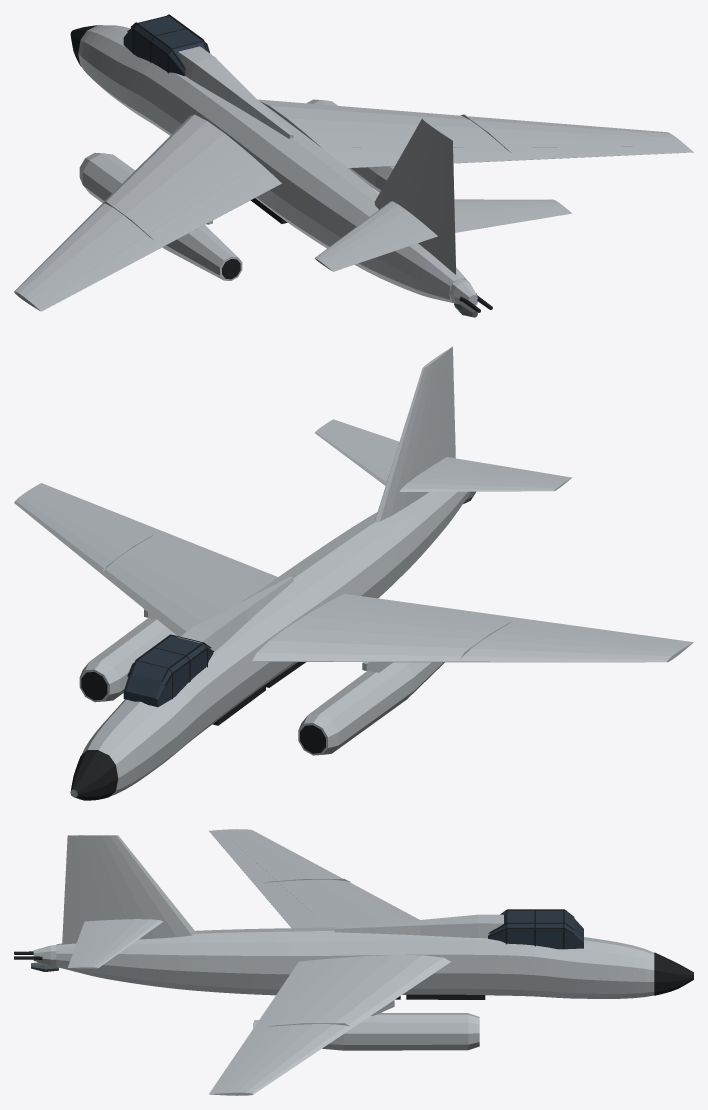
3 views of the same model, one above another, from view 1: azimuth 30°, elevation 25°; view 2: azimuth 150°, elevation 25°; view 3: azimuth 270°, elevation 25° (orthographic). The views are drawn at different scales.
Parts seen in each view (by area): view 1: Fuselage, Wing L, Wing R, Nacelles, Vertical Fin, Flap L, Rudder, Dorsal Fairing, Cockpit Glass, Stabilizer L, Flap R, Stabilizer R (+6 smaller); view 2: Fuselage, Wing L, Wing R, Nacelles, Vertical Fin, Cockpit Glass, Stabilizer L, Dorsal Fairing, Flap L, Stabilizer R, Flap R, Rudder (+6 smaller); view 3: Fuselage, Wing R, Wing L, Vertical Fin, Nacelles, Rudder, Cockpit Glass, Dorsal Fairing, Stabilizer R, Flap R, Flap L, Radome (+5 smaller).
Boxes of the visible parts, bbox=[...] form: Fuselage: bbox=[78, 25, 466, 303]; Wing L: bbox=[14, 114, 281, 311]; Wing R: bbox=[258, 99, 693, 168]; Nacelles: bbox=[79, 99, 394, 280]; Vertical Fin: bbox=[374, 118, 442, 246]; Flap L: bbox=[136, 172, 267, 253]; Rudder: bbox=[422, 132, 456, 274]; Dorsal Fairing: bbox=[178, 46, 293, 138]; Cockpit Glass: bbox=[123, 16, 208, 76]; Stabilizer L: bbox=[314, 201, 421, 267]; Flap R: bbox=[344, 147, 536, 167]; Stabilizer R: bbox=[454, 199, 565, 217]; Fuselage: bbox=[71, 491, 469, 797]; Wing L: bbox=[252, 593, 693, 662]; Wing R: bbox=[14, 483, 277, 636]; Nacelles: bbox=[79, 618, 444, 755]; Vertical Fin: bbox=[374, 354, 442, 522]; Cockpit Glass: bbox=[123, 636, 213, 707]; Stabilizer L: bbox=[399, 467, 565, 491]; Dorsal Fairing: bbox=[179, 576, 293, 652]; Flap L: bbox=[344, 596, 535, 627]; Stabilizer R: bbox=[315, 423, 395, 485]; Flap R: bbox=[136, 526, 267, 584]; Rudder: bbox=[428, 346, 455, 492]; Fuselage: bbox=[56, 927, 654, 998]; Wing R: bbox=[209, 955, 450, 1095]; Wing L: bbox=[209, 829, 419, 927]; Vertical Fin: bbox=[86, 835, 196, 939]; Nacelles: bbox=[254, 1012, 479, 1050]; Rudder: bbox=[62, 835, 106, 944]; Cockpit Glass: bbox=[488, 910, 583, 949]; Dorsal Fairing: bbox=[334, 914, 503, 938]; Stabilizer R: bbox=[78, 919, 163, 968]; Flap R: bbox=[249, 966, 328, 1034]; Flap L: bbox=[249, 876, 327, 927]; Radome: bbox=[654, 952, 693, 995].
Size of the model in its own units: 22.1 by 6.63 by 24.1.
